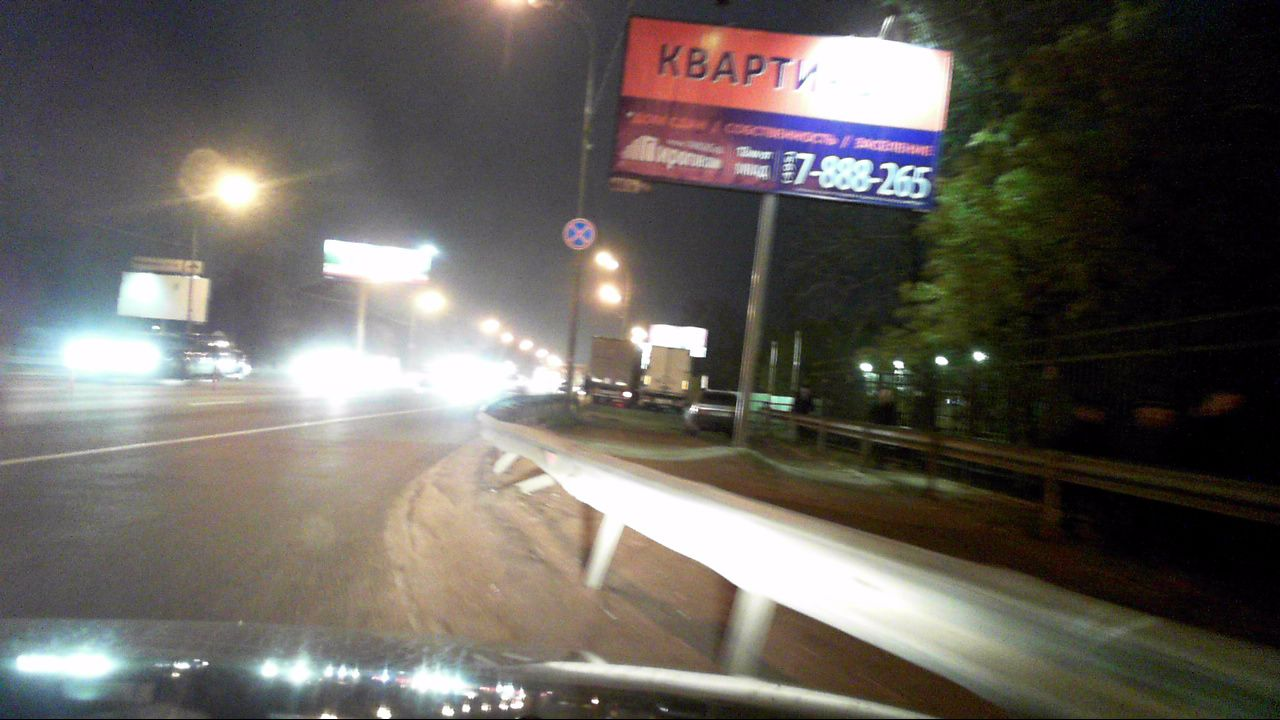No Parking: (562, 218, 594, 251)
